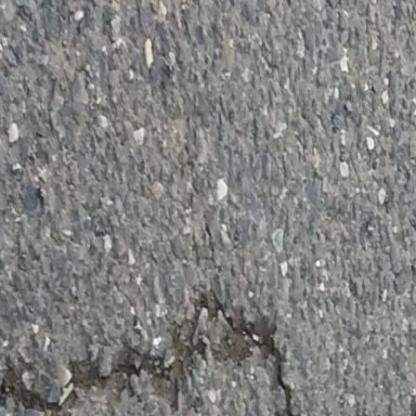Cracks: (0, 280, 312, 416)
